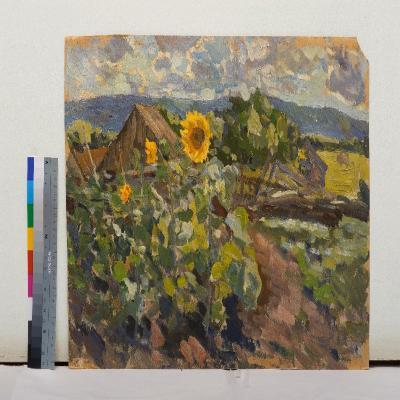painting: (67, 35, 370, 370)
